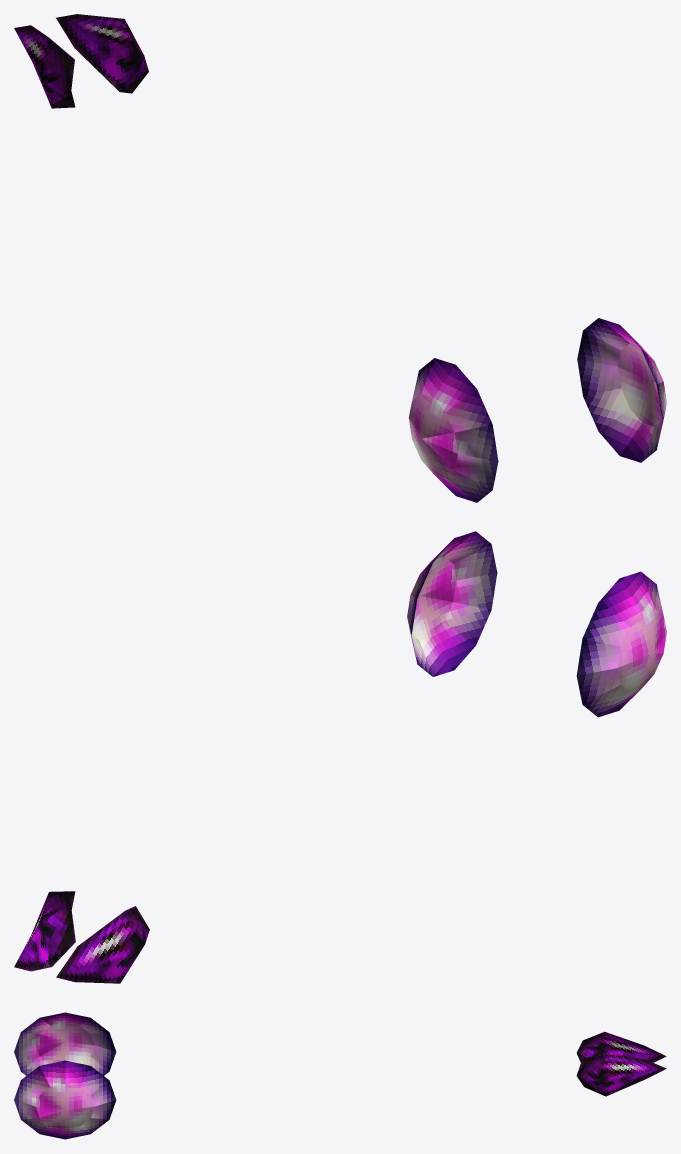
The model's file is yinxinzhiren003.fbx.
3 views of the same model, one above another, from view 1: azimuth 30°, elevation 25°; view 2: azimuth 150°, elevation 25°; view 3: azimuth 270°, elevation 25° (orthographic). The views are drawn at different scales.
Visible parts, largest first — view 1: yinxinzhiren003; view 2: yinxinzhiren003; view 3: yinxinzhiren003.
Part boxes in pixels (<box>): yinxinzhiren003: <box>14,14,666,502</box>; yinxinzhiren003: <box>14,531,666,983</box>; yinxinzhiren003: <box>14,1012,666,1139</box>.
Size of the model in its own units: 40.03 by 21.68 by 163.
